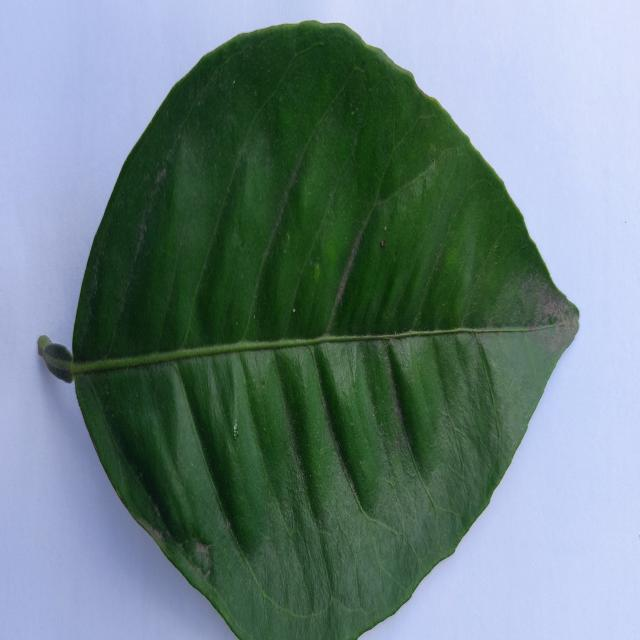greening: (49, 23, 578, 640)
